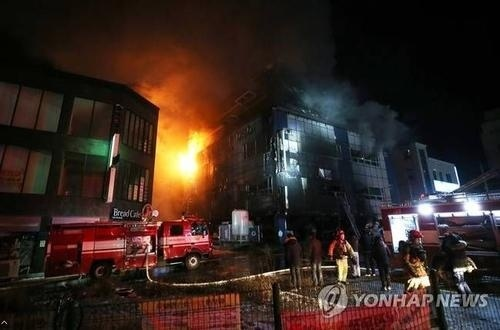fire: (173, 132, 206, 178)
